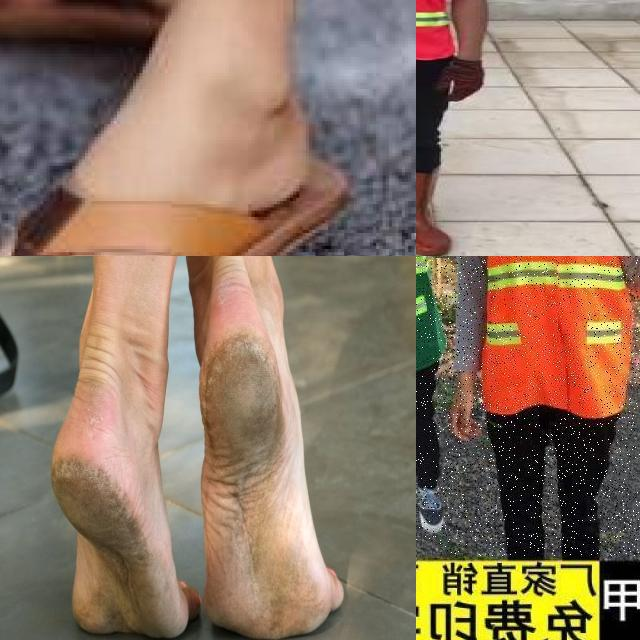Barefoots: (199, 302, 344, 640), (51, 392, 202, 639)
Sandals: (0, 0, 416, 256)
boots: (416, 161, 453, 256), (416, 471, 452, 535)
hand_glove: (436, 60, 486, 103)
person: (440, 256, 640, 556), (416, 0, 503, 256)
vest: (477, 256, 640, 415)
